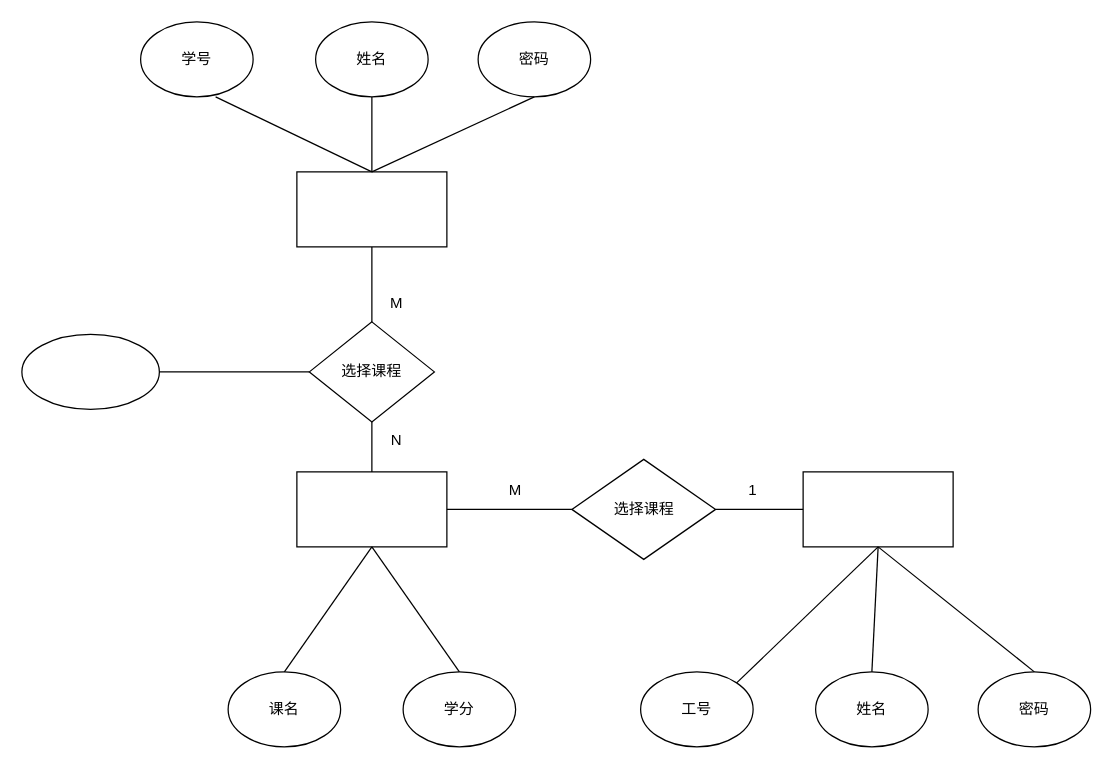
The diagram is 1113 pixels wide and 769 high, and some of its shapes have lost their labels. Here are the shapes that lost their labels. From the top down, the box of each, then its label:
(296, 171, 447, 247): 学生
(21, 333, 159, 409): 成绩
(296, 471, 447, 547): 课程
(802, 471, 953, 547): 教师
